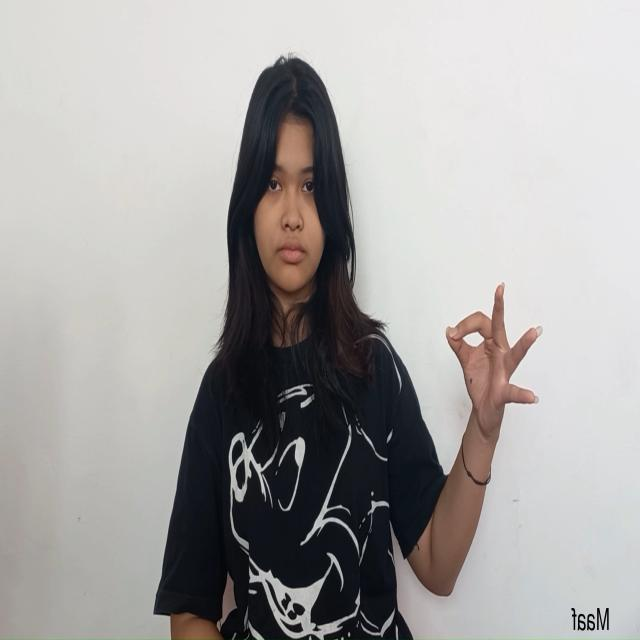Maaf -BISINDO-: (444, 277, 544, 470)
